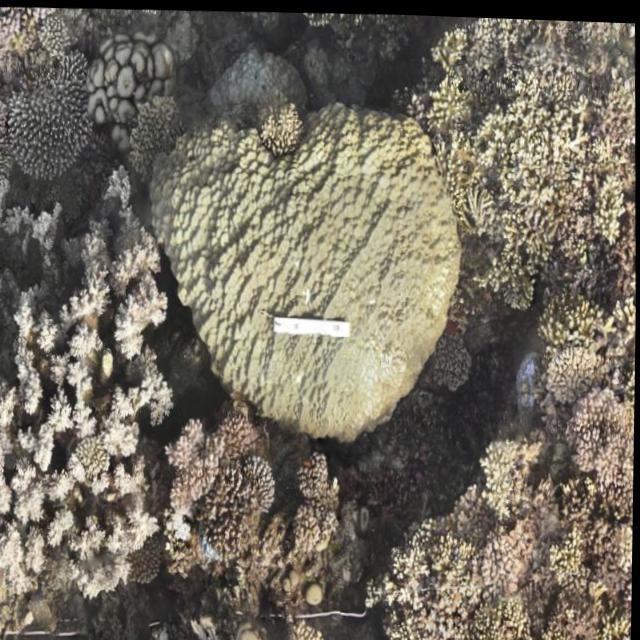Bleached Coral: (0, 153, 179, 610), (149, 484, 218, 567), (234, 439, 290, 524)
Healthy Coral: (168, 145, 452, 421), (371, 398, 635, 640), (443, 14, 639, 318), (0, 32, 108, 191)
